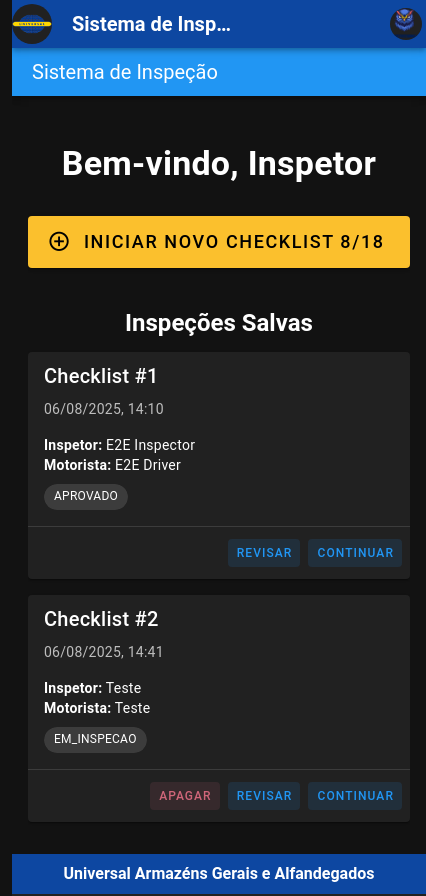
Test case: Tela 1: Página Inicial › Visualização em Smartphone › deve apagar uma inspeção ao clicar no botão "Apagar" do cartão
Click the button "Apagar" at (185, 796), box [150,782,220,810]
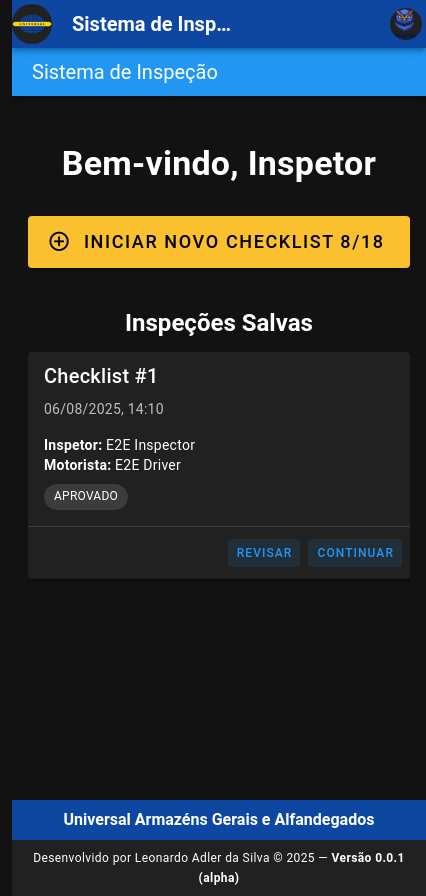
Now the element with test id "inspection-card-2" is gone
